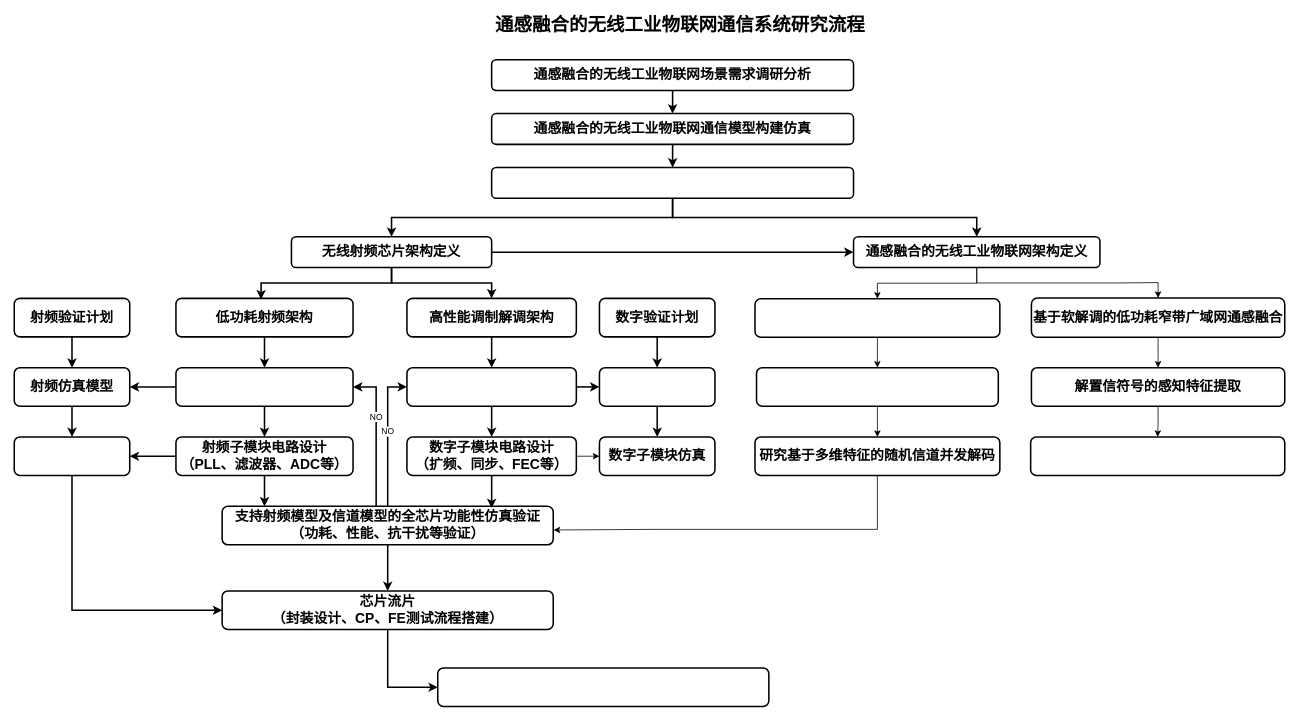
Image size: 1298x720. Some labels were removed from this diagram. The shapes that lost their labels are listed below. From the top down, each one's centre as x and y in pixels, then its label:
the point at 672,182: 通感融合的无线工业物联网通信系统技术指标分解
the point at 877,318: 基于多维特征的低信噪比随机信道解码
the point at 264,387: 射频子模块定义 （功能、性能）
the point at 491,387: 数字子模块定义 （功能、性能）
the point at 656,387: 信道仿真模型
the point at 877,387: 基于多网关联合的随机信道弱信号检测
the point at 71,456: 射频子模块仿真
the point at 1157,456: 多节点协同优化的持续感知
the point at 603,687: 通感融合的无线工业物联网通信系统原型验证
